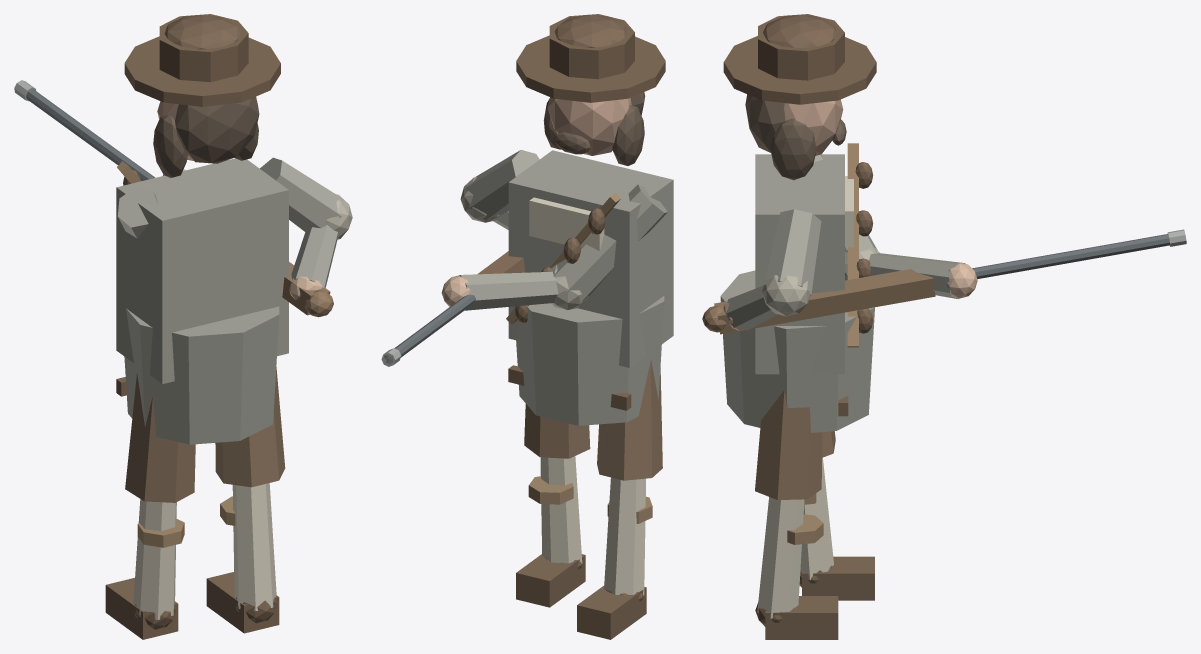
The model's file is cameronian_hodden_musket_aiming.glb.
3 renders of one model, left to right at view 1: azimuth 30°, elevation 25°; view 2: azimuth 150°, elevation 25°; view 3: azimuth 270°, elevation 25°, orthographic. The views are drawn at different scales.
Visible parts, largest first — view 1: hodden, leather, brown, linen, hair, iron, leather_lt, wood, hodden_lt; view 2: hodden, leather, linen, brown, skin, hair, leather_lt, hodden_lt, iron, wood, skin_light; view 3: hodden, leather, linen, brown, wood, hair, iron, leather_lt, skin, hodden_lt, skin_light.
Boxes of the visible parts, box(x1,y1,x2,y2) form: hodden: box(116, 157, 343, 444); leather: box(105, 14, 280, 639); brown: box(125, 367, 285, 502); linen: box(133, 483, 276, 619); hair: box(153, 96, 259, 177); iron: box(26, 89, 155, 180); leather_lt: box(117, 161, 235, 547); wood: box(282, 262, 333, 317); hodden_lt: box(326, 194, 352, 239); hodden: box(459, 150, 673, 425); leather: box(508, 14, 665, 639); linen: box(529, 197, 645, 595); brown: box(524, 360, 662, 480); skin: box(547, 97, 631, 155); hair: box(543, 92, 645, 165); leather_lt: box(506, 193, 652, 523); hodden_lt: box(460, 176, 588, 310); iron: box(384, 294, 475, 364); wood: box(477, 251, 524, 274); skin_light: box(441, 275, 470, 306); hodden: box(720, 154, 965, 432); leather: box(723, 14, 876, 639); linen: box(757, 176, 853, 618); brown: box(755, 390, 835, 500); wood: box(702, 269, 935, 334); hair: box(745, 94, 846, 180); iron: box(972, 234, 1169, 278); leather_lt: box(787, 143, 858, 544); skin: box(784, 99, 843, 155); hodden_lt: box(762, 248, 879, 316); skin_light: box(723, 262, 977, 330).
Bounding box in the file's own units: 0.6676 × 1.74 × 1.3.
